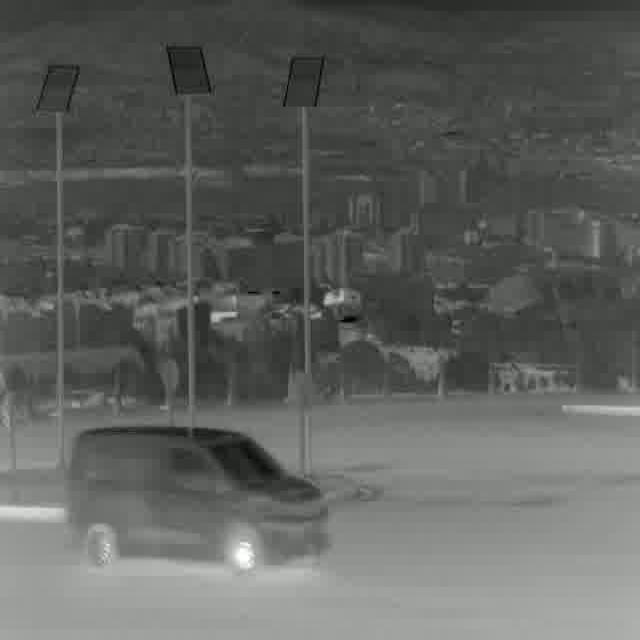Car: (64, 425, 330, 576)
